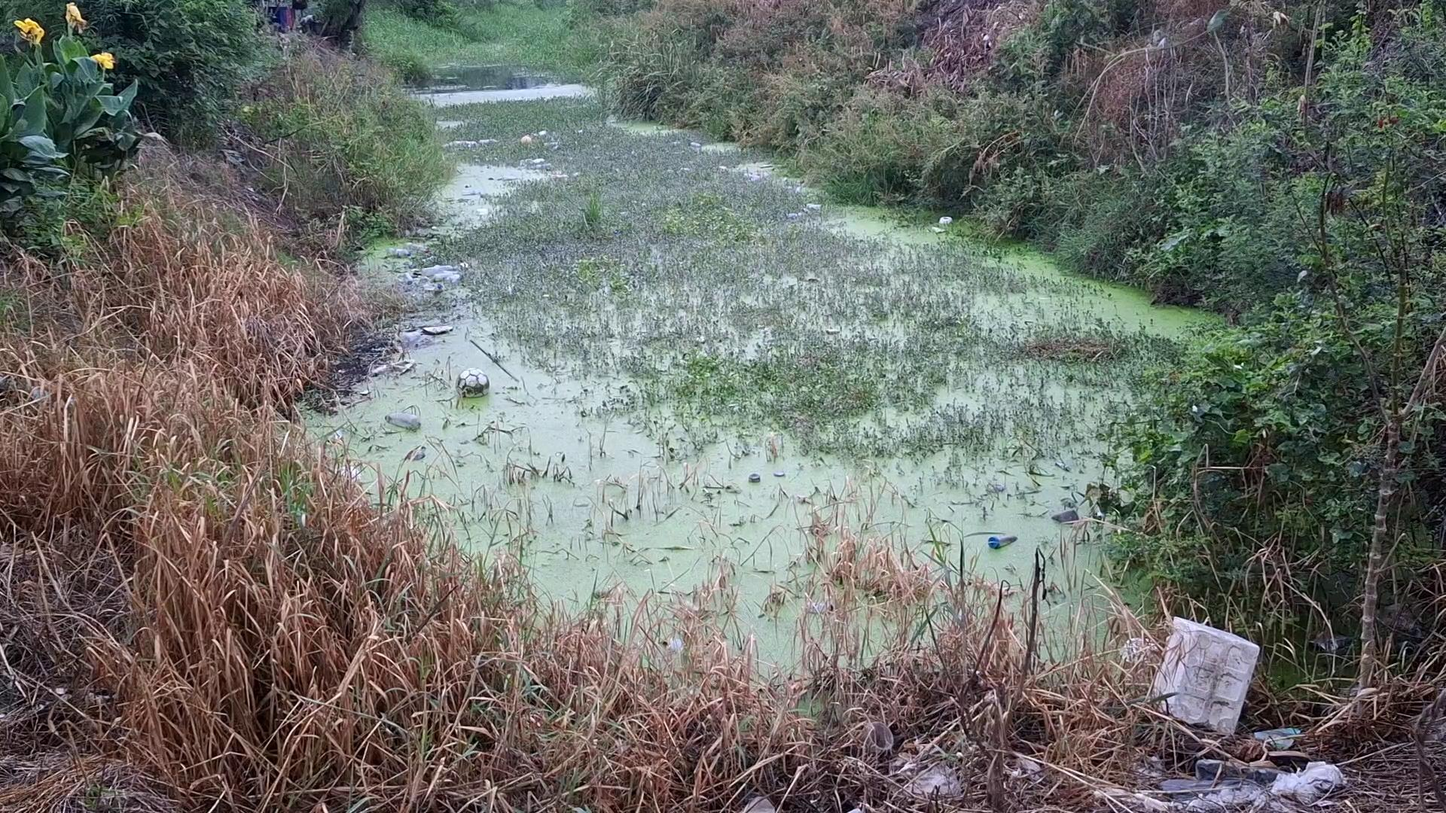ignore: (695, 286, 1151, 462), (444, 83, 753, 271), (529, 206, 849, 387)
trash: (405, 262, 465, 292), (382, 405, 431, 438), (382, 238, 435, 267), (920, 211, 963, 241), (983, 530, 1028, 556), (457, 369, 497, 397), (746, 465, 793, 485), (411, 320, 460, 339), (1051, 506, 1087, 529)
